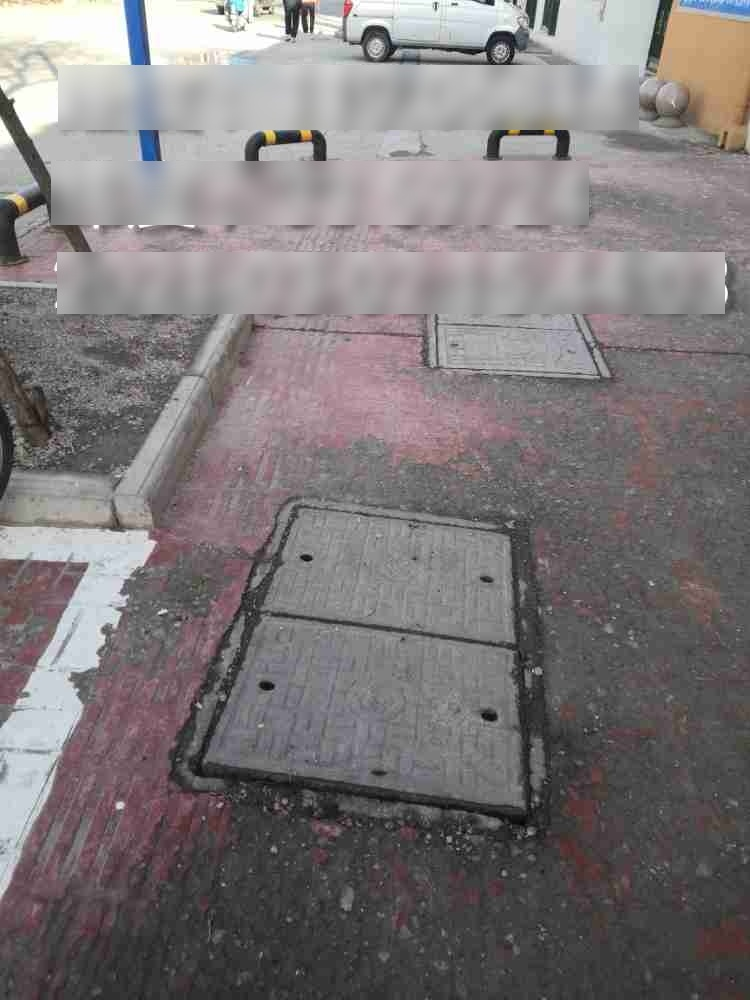good: (171, 497, 547, 836), (425, 288, 612, 380)
